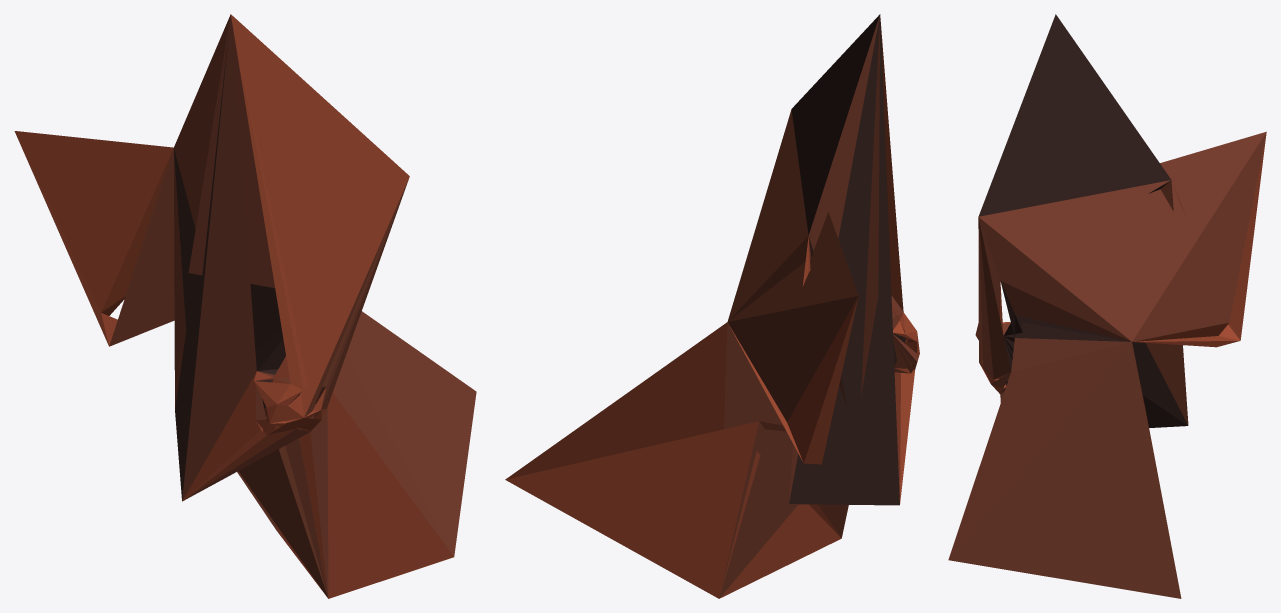
The picture shows the model from 3 angles, left to right: view 1: azimuth 30°, elevation 25°; view 2: azimuth 150°, elevation 25°; view 3: azimuth 270°, elevation 25°; orthographic projection. The views are drawn at different scales.
Parts seen in each view (by area): view 1: lion-200; view 2: lion-200; view 3: lion-200.
Boxes of the visible parts, x1=… form: lion-200: x1=14, y1=14, x2=476, y2=598; lion-200: x1=505, y1=14, x2=919, y2=598; lion-200: x1=948, y1=14, x2=1266, y2=598.
Bounding box in the file's own units: 0.5304 × 0.7181 × 0.3995.
